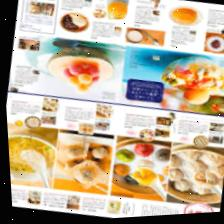paper: (4, 83, 224, 224), (2, 0, 224, 127)
